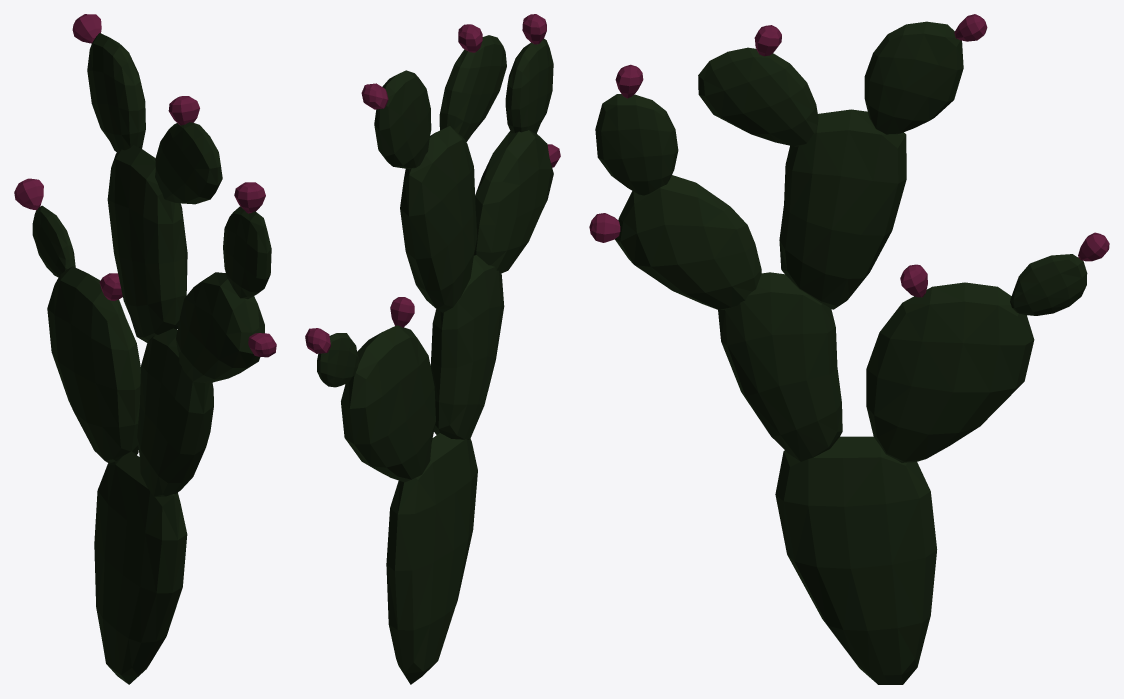
File: CactusFlowers_4.obj
3 renders of one model, left to right at view 1: azimuth 30°, elevation 25°; view 2: azimuth 150°, elevation 25°; view 3: azimuth 270°, elevation 25°, orthographic. The views are drawn at different scales.
Visible parts, largest first — view 1: CactusFlowers_4; view 2: CactusFlowers_4; view 3: CactusFlowers_4.
Part boxes in pixels (<box>): CactusFlowers_4: <box>14,14,276,684</box>; CactusFlowers_4: <box>305,14,560,684</box>; CactusFlowers_4: <box>589,14,1109,684</box>.
Size of the model in its own units: 0.11 by 1.38 by 0.972.
